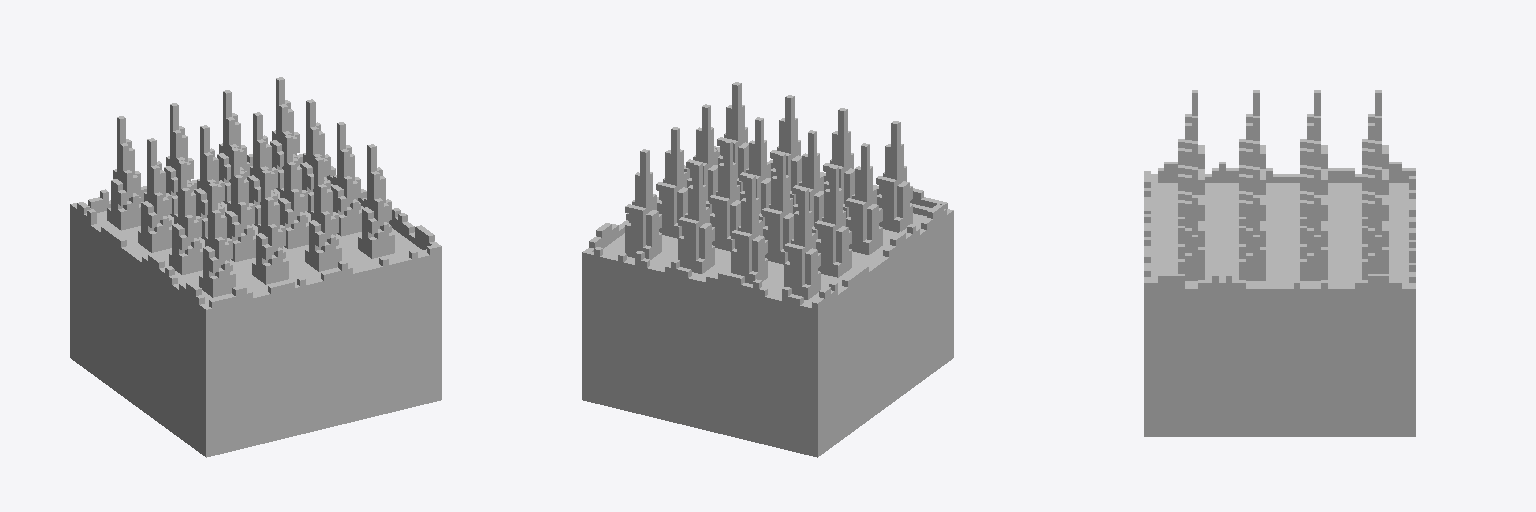
File: spikes.obj
3 renders of one model, left to right at view 1: azimuth 30°, elevation 25°; view 2: azimuth 150°, elevation 25°; view 3: azimuth 270°, elevation 25°, orthographic.
Visible parts, largest first — view 1: object 1; view 2: object 1; view 3: object 1.
Part boxes in pixels (bbox=[...]): object 1: bbox=[70, 77, 441, 457]; object 1: bbox=[582, 82, 953, 457]; object 1: bbox=[1144, 90, 1415, 436].
Bounding box in the file's own units: 4 × 4 × 4.